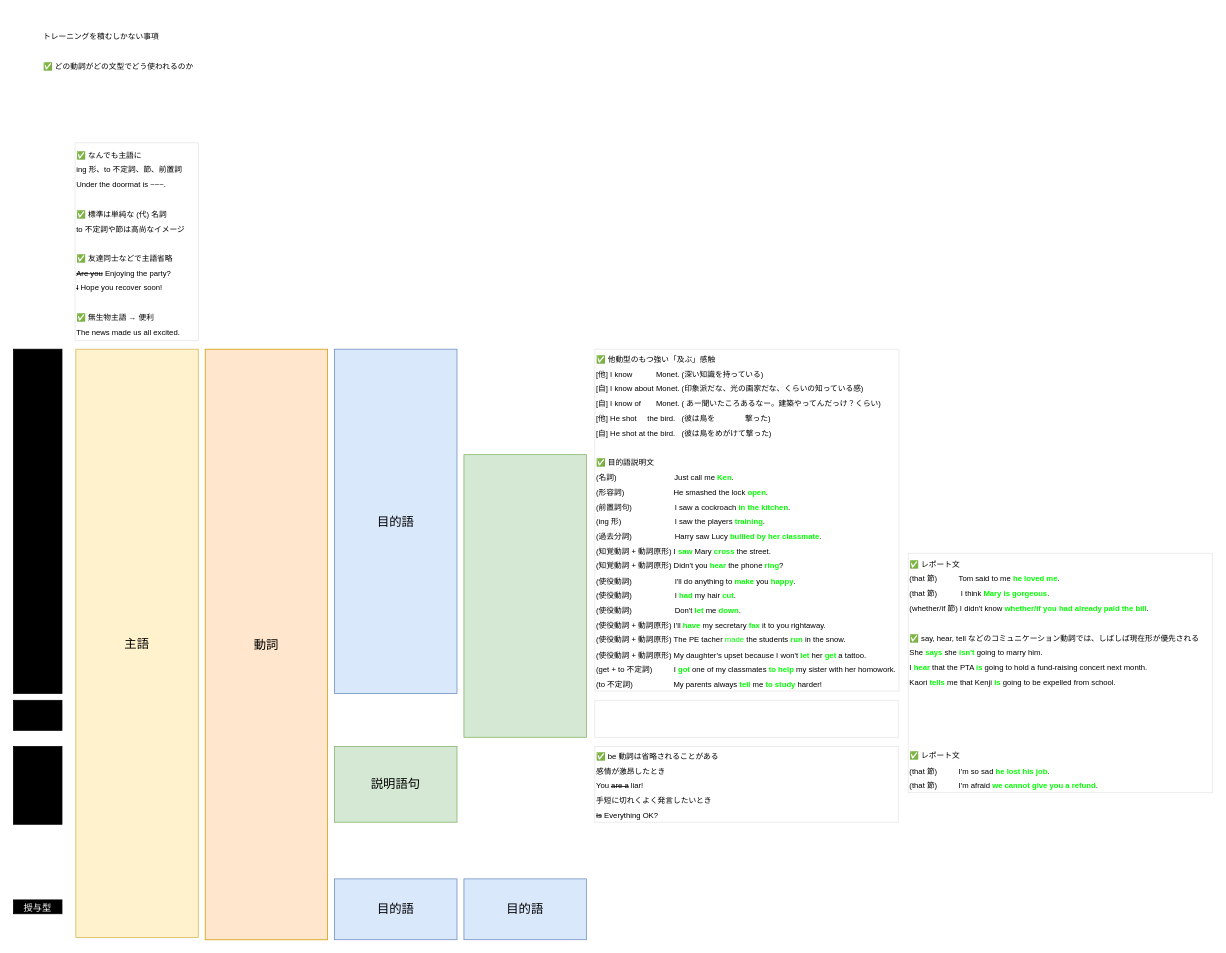
This 1226x953 diagram has some shape labels left out. Here are the shapes that lost their labels. From the top down, the centre of each, then its label:
At (x=37, y=520): "他動型".
At (x=524, y=595): "(説明語句)".
At (x=37, y=715): "自動型".
At (x=746, y=718): "✅ 句動詞".
At (x=37, y=785): "説明型".
